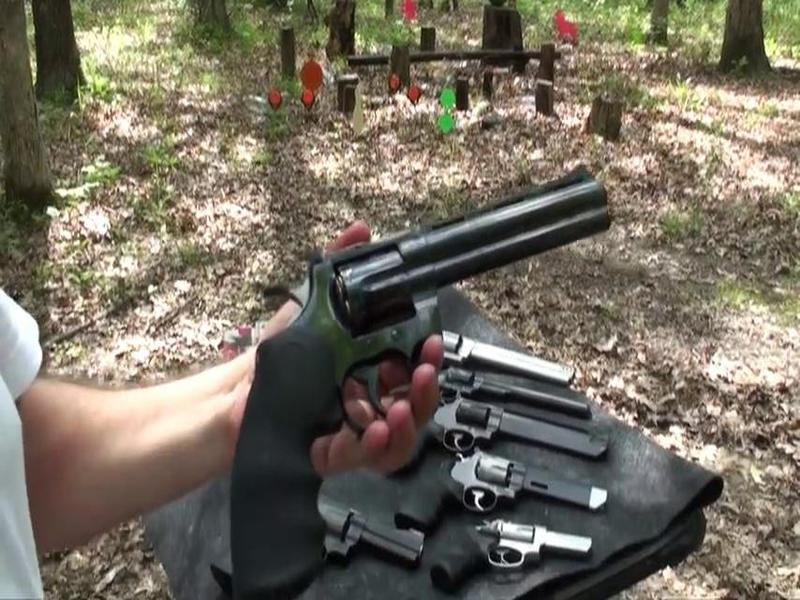Revolver: (230, 173, 626, 484)
